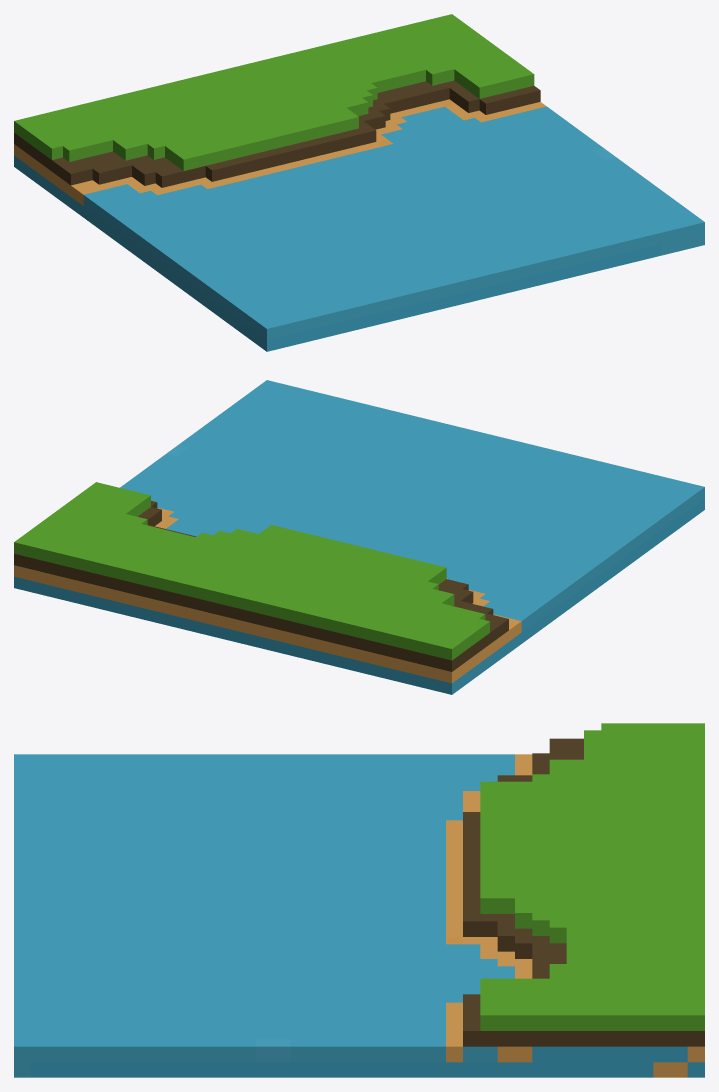
Rendered from teste-7.obj.
The picture shows the model from 3 angles, top to bottom: view 1: azimuth 30°, elevation 25°; view 2: azimuth 150°, elevation 25°; view 3: azimuth 270°, elevation 25°; orthographic projection. The views are drawn at different scales.
Bounding box in the file's own units: 4 × 0.4 × 4.
Materials: 1 (1 with a texture image).
